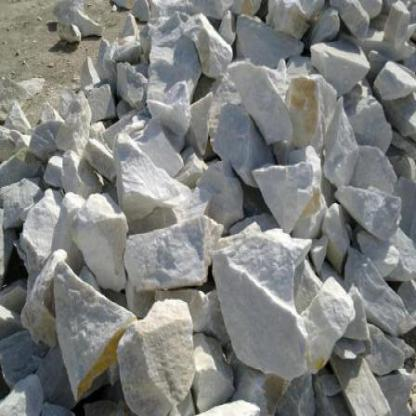Sedimentary_Limestone: (210, 228, 345, 378), (47, 260, 135, 414), (112, 291, 213, 415), (228, 57, 299, 150), (114, 135, 177, 218), (326, 146, 406, 208), (302, 40, 372, 92)
